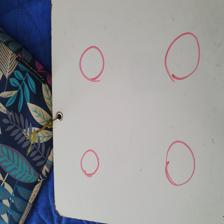association: (165, 32, 201, 81), (166, 141, 194, 186), (80, 46, 105, 82), (81, 149, 100, 176)
